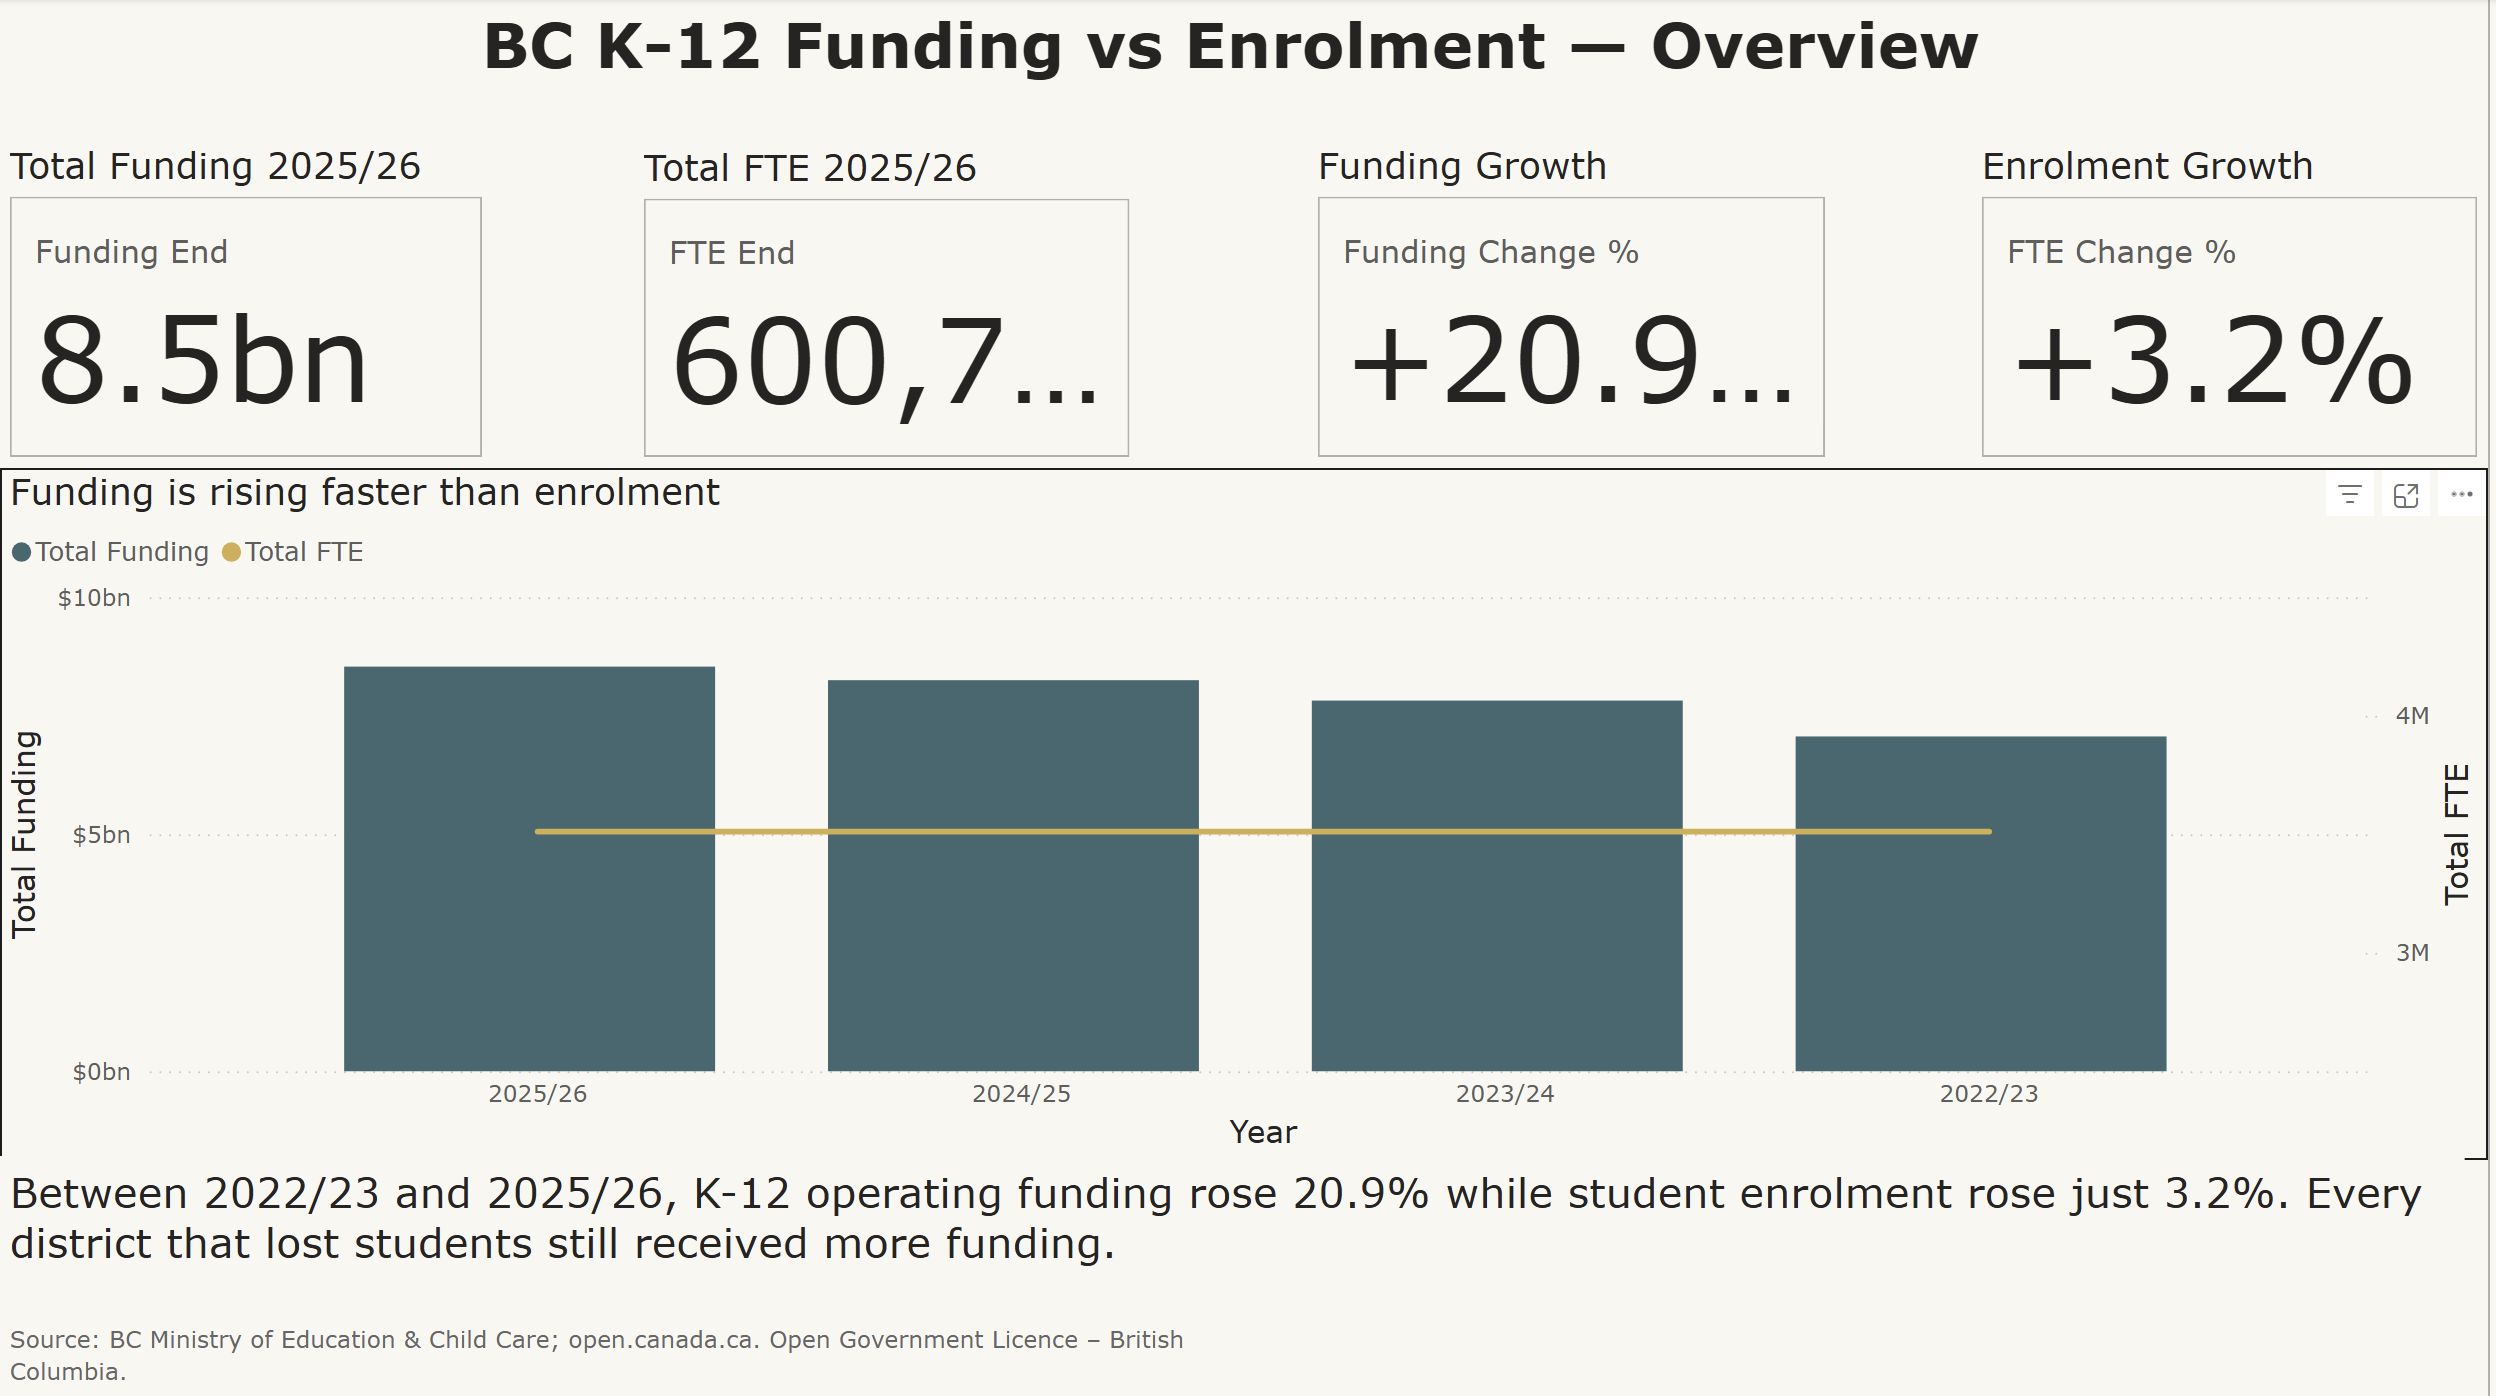

What the dashboard file says about the page in this screenshot:
{"tool":"powerbi","page":{"name":"Executive Overview","canvas":[1280,720],"ordinal":0},"visuals":[{"type":"cardVisual","title":"Total FTE 2025/26","fields":{"Data":["funding_clean.FTE End"]},"box":[325.9,76.1,260.5,166.5],"z":0},{"type":"cardVisual","title":"Funding Growth","fields":{"Data":["funding_clean.Funding Change %"]},"box":[673.3,74.9,271.2,167.7],"z":1000},{"type":"cardVisual","title":"Enrolment Growth","fields":{"Data":["funding_clean.FTE Change %"]},"box":[1014.7,74.9,265.3,167.7],"z":2000},{"type":"cardVisual","title":"Total Funding 2025/26","fields":{"Data":["funding_clean.Funding End"]},"box":[0,74.9,253.4,167.7],"z":3000},{"type":"lineClusteredColumnComboChart","title":"Funding is rising faster than enrolment","fields":{"Category":["funding_clean.Year"],"Y":["funding_clean.Total Funding"],"Y2":["funding_clean.Total FTE"]},"box":[0,242.7,1280,355.7],"z":4000},{"type":"textbox","box":[0,597.2,1268.1,79.7],"z":5000},{"type":"textbox","box":[0,677.2,697.6,42.8],"z":5001},{"type":"textbox","box":[242.8,0,794.3,53.5],"z":5002}]}

Visuals, with their boxes in screenshot pixels (x1, y1, x2, y2), scaled from the page's 1280x720 canvas onto the 2496x1396 screenshot:
"Total FTE 2025/26" cardVisual: bbox=(636, 148, 1143, 470)
"Funding Growth" cardVisual: bbox=(1313, 145, 1842, 470)
"Enrolment Growth" cardVisual: bbox=(1979, 145, 2495, 470)
"Total Funding 2025/26" cardVisual: bbox=(0, 145, 494, 470)
"Funding is rising faster than enrolment" lineClusteredColumnComboChart: bbox=(0, 471, 2495, 1160)
textbox: bbox=(0, 1158, 2473, 1312)
textbox: bbox=(0, 1313, 1360, 1395)
textbox: bbox=(473, 0, 2022, 104)
